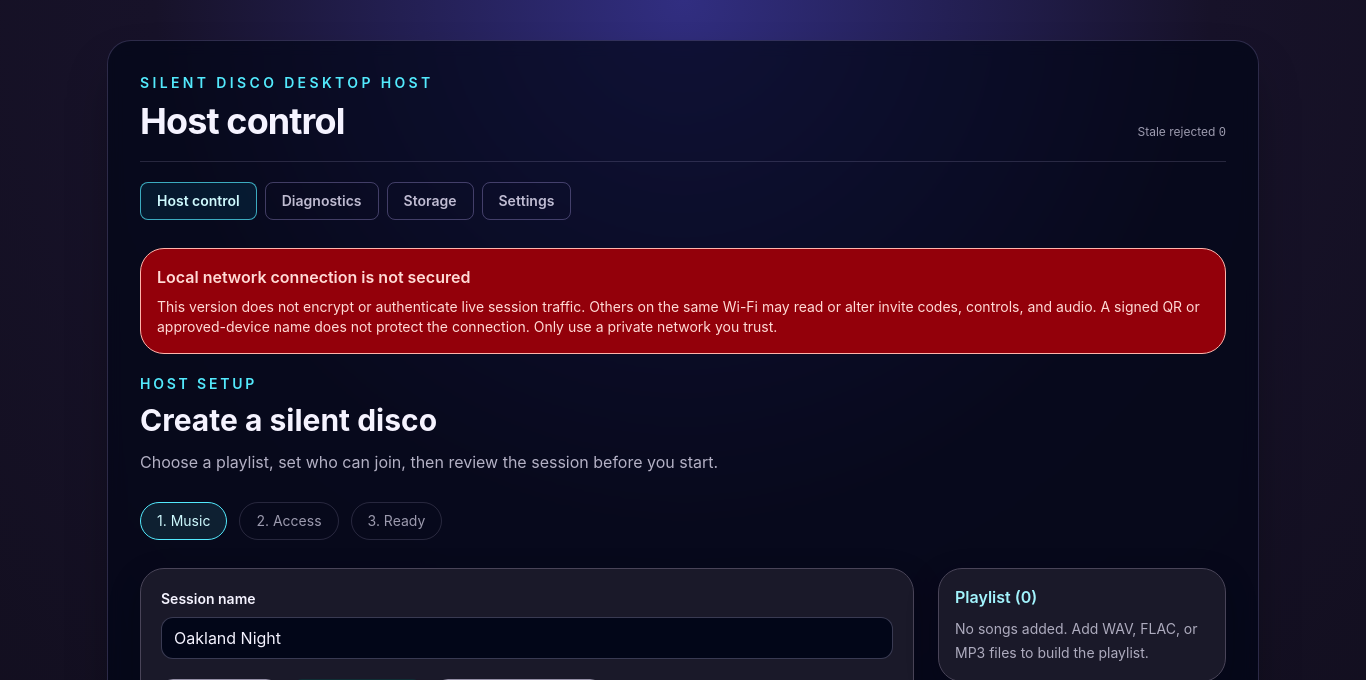
Test case: App › renders exactly one destination at a time and moves focus on switch
Expected: the heading "Create a silent disco" is shown, [140, 402, 437, 438]
Click the tab "Settings": (526, 201) [482, 182, 571, 220]
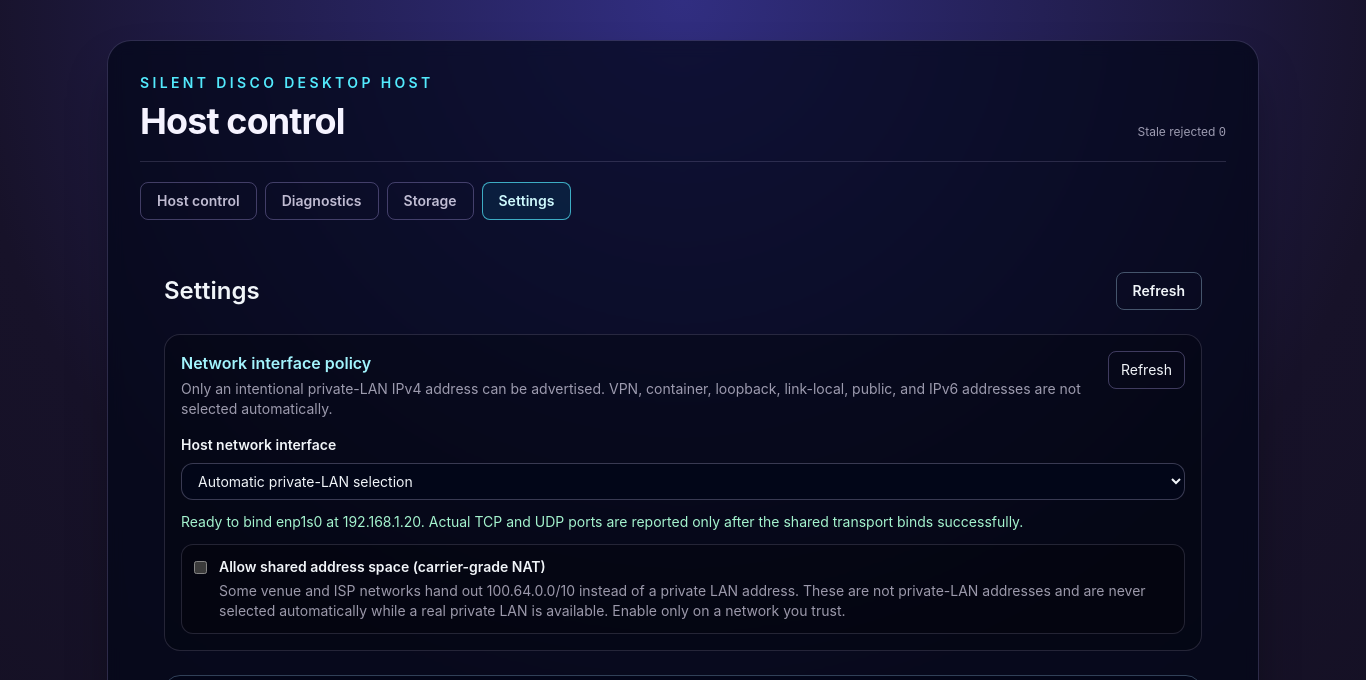
Expected: the heading "Settings" is shown, [164, 275, 260, 307]
Now the heading "Create a silent disco" is gone
